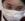with_mask: (2, 1, 25, 21)
